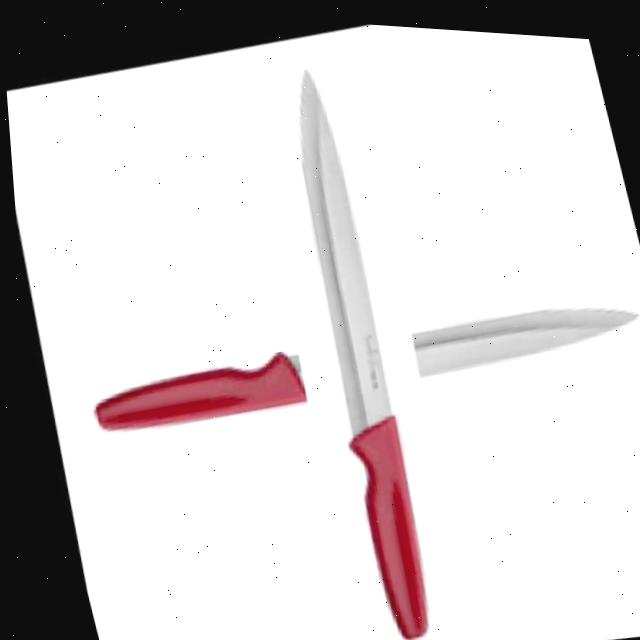knife: (65, 259, 640, 465), (249, 58, 449, 640)
